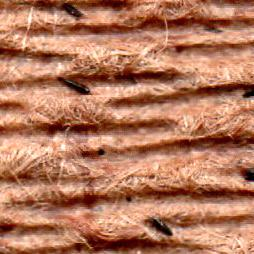egg: (59, 77, 89, 92), (152, 218, 172, 235), (62, 3, 81, 18), (245, 168, 253, 180), (245, 89, 253, 97)
